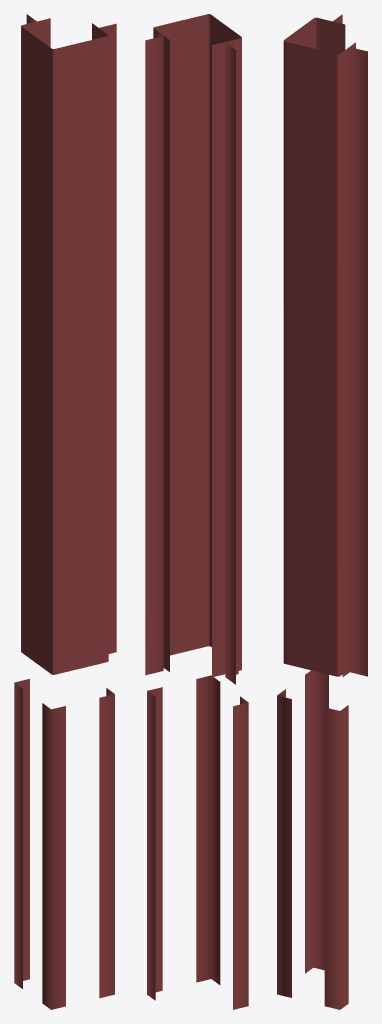
Rendered from Decal_wallIn_A_corner_outSmall.FBX.
The picture shows the model from 3 angles, left to right: view 1: azimuth 30°, elevation 25°; view 2: azimuth 210°, elevation 25°; view 3: azimuth 330°, elevation 25°; orthographic projection.
Parts seen in each view (by area): view 1: Decal_wallIn_A_corner_outSmall; view 2: Decal_wallIn_A_corner_outSmall; view 3: Decal_wallIn_A_corner_outSmall.
Part boxes in pixels (<box>): Decal_wallIn_A_corner_outSmall: <box>14,14,116,1009</box>; Decal_wallIn_A_corner_outSmall: <box>145,14,248,1009</box>; Decal_wallIn_A_corner_outSmall: <box>277,14,367,1009</box>.
Size of the model in its own units: 21.68 by 253 by 21.74.
